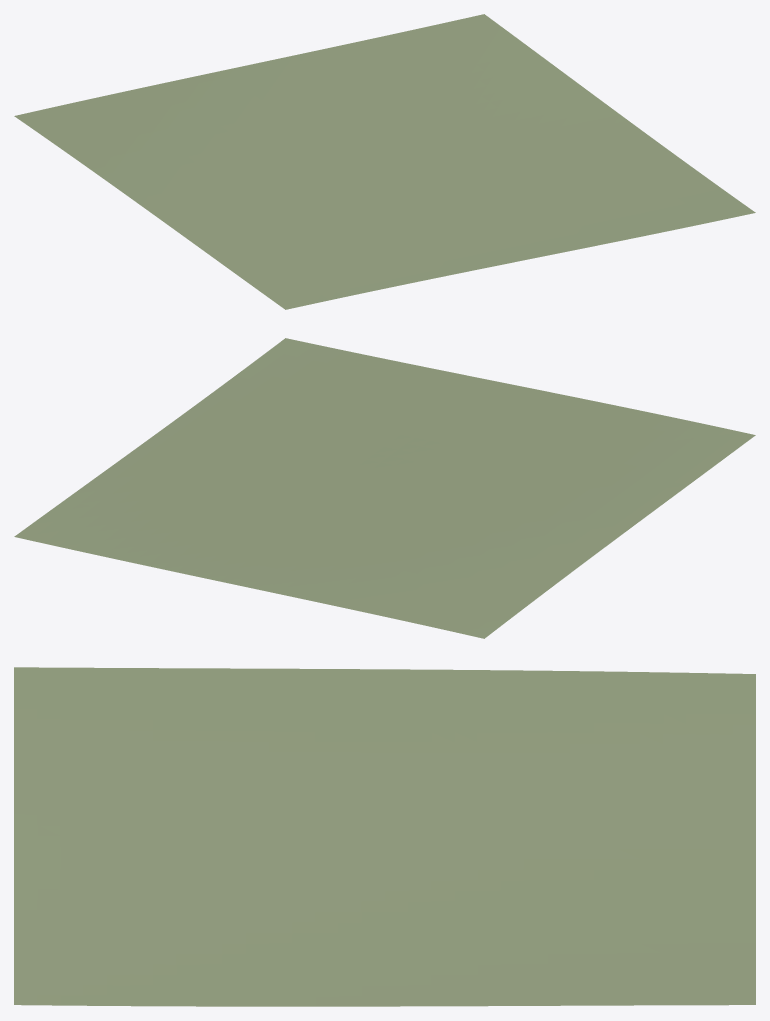
The model's file is expanse-2-21.glb.
3 renders of one model, top to bottom at view 1: azimuth 30°, elevation 25°; view 2: azimuth 150°, elevation 25°; view 3: azimuth 270°, elevation 25°, orthographic. The views are drawn at different scales.
Parts seen in each view (by area): view 1: expanse-2-21; view 2: expanse-2-21; view 3: expanse-2-21.
Part boxes in pixels (x1,y1,x2,y2): expanse-2-21: [14, 14, 755, 309]; expanse-2-21: [14, 338, 755, 638]; expanse-2-21: [14, 667, 755, 1006].
Bounding box in the file's own units: 256 × 9.81 × 256.
